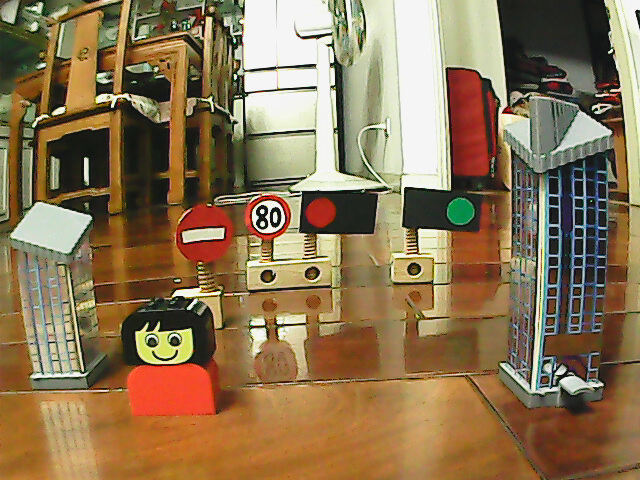Green Traffic Light: (439, 192, 480, 232)
Person: (117, 295, 220, 416)
Red Traffic Light: (299, 190, 340, 233)
Speed Limit 80: (242, 190, 292, 241)
Stop Sign: (174, 201, 235, 264)
